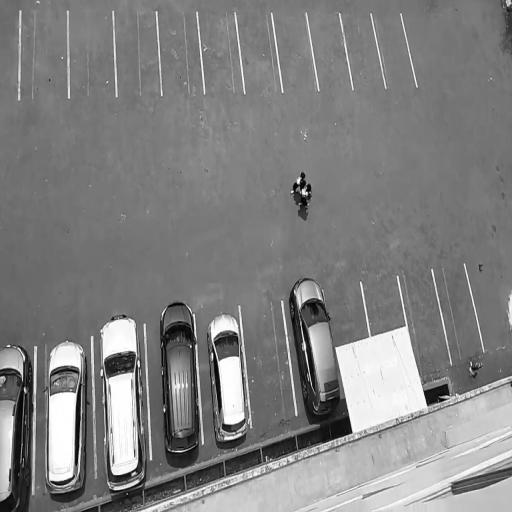Car: (98, 305, 148, 498), (288, 272, 344, 425), (44, 334, 92, 498), (158, 295, 201, 469), (205, 307, 250, 448), (0, 339, 33, 512)
Space Available: (239, 300, 295, 426), (398, 269, 452, 369), (432, 265, 483, 365), (19, 10, 69, 100), (69, 11, 117, 97), (114, 11, 161, 96), (157, 10, 203, 95), (236, 12, 282, 96), (273, 11, 320, 93), (199, 11, 244, 94), (307, 12, 353, 91), (340, 11, 386, 89), (372, 12, 417, 88), (324, 283, 370, 348), (362, 274, 407, 336), (0, 8, 19, 98)
